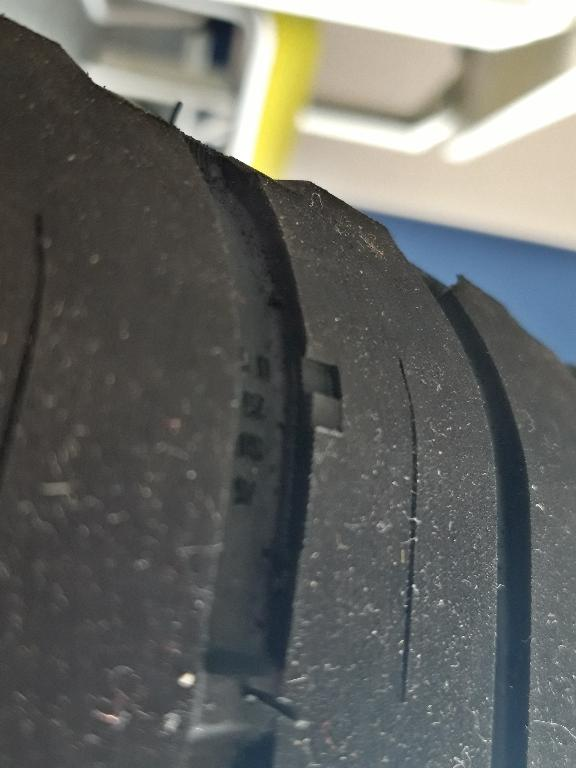temoin:25: (278, 340, 365, 459)
